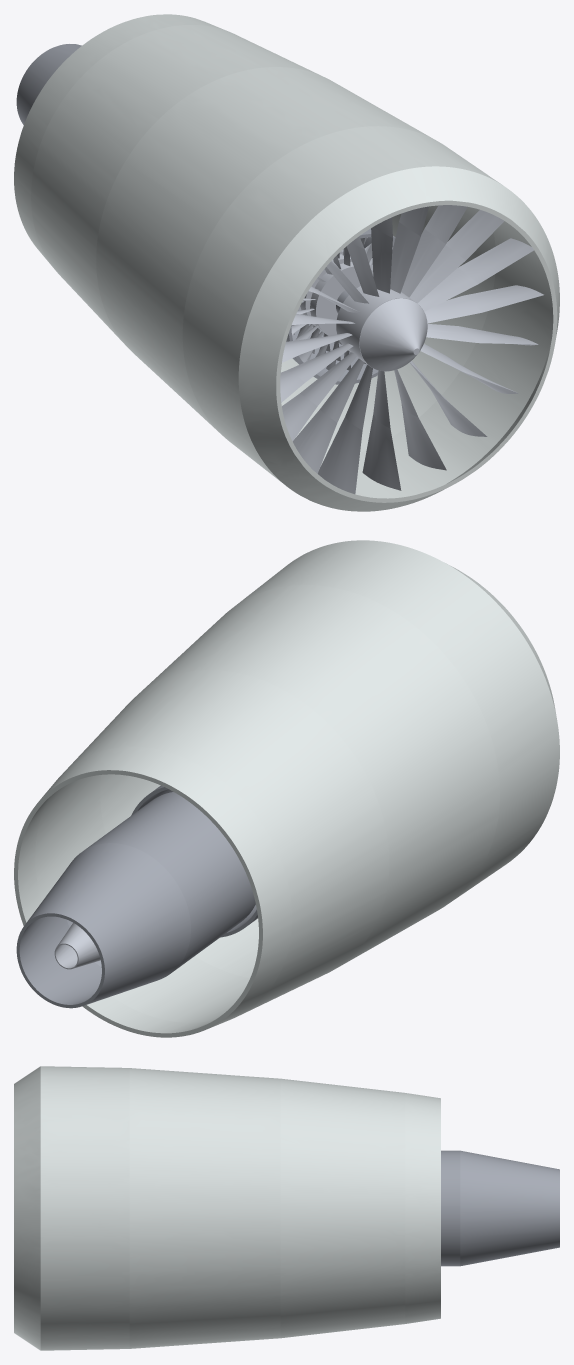
Rendered from turbine.glb.
3 views of the same model, one above another, from view 1: azimuth 30°, elevation 25°; view 2: azimuth 150°, elevation 25°; view 3: azimuth 270°, elevation 25° (orthographic). The views are drawn at different scales.
Parts seen in each view (by area): view 1: Nacelle, Combustor_case; view 2: Nacelle, Combustor_case; view 3: Nacelle, Combustor_case.
Boxes of the visible parts, box(x1,y1,x2,y2) form: Nacelle: box(14, 14, 559, 511); Combustor_case: box(16, 44, 543, 494); Nacelle: box(14, 540, 559, 1037); Combustor_case: box(16, 785, 257, 1008); Nacelle: box(14, 1066, 440, 1350); Combustor_case: box(441, 1150, 559, 1266).
Size of the model in its own units: 1.6 by 1.6 by 3.07.
Materials: 2 (2 with a texture image).
